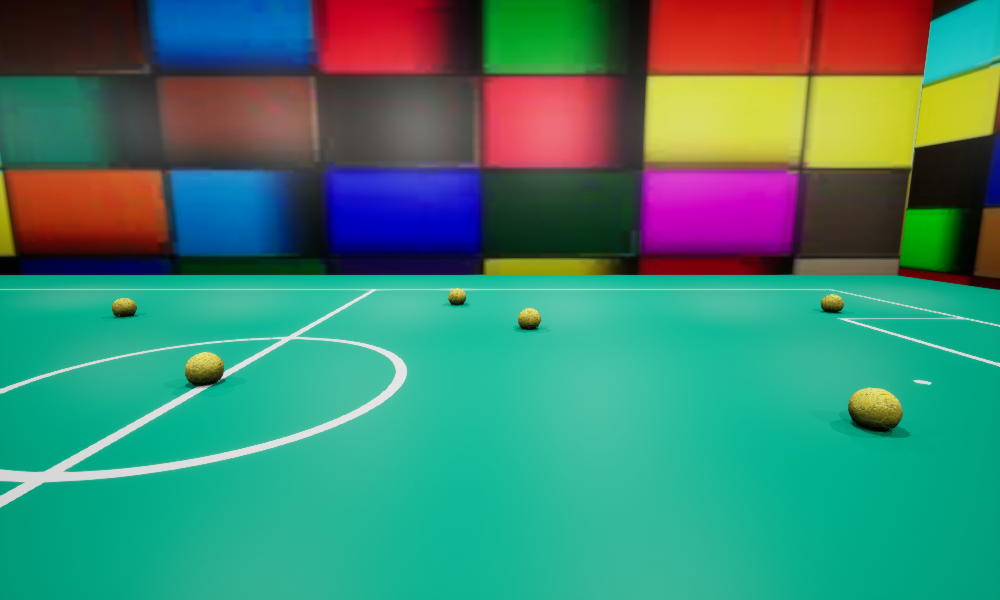b: (848, 387, 902, 431), (185, 352, 223, 385), (518, 308, 540, 329), (112, 298, 136, 316), (821, 294, 843, 312), (448, 288, 465, 304)
